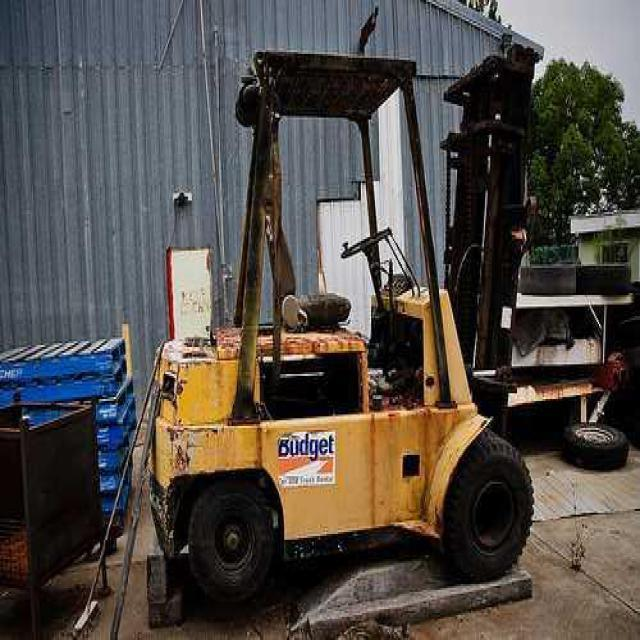forklift: (150, 31, 542, 589)
